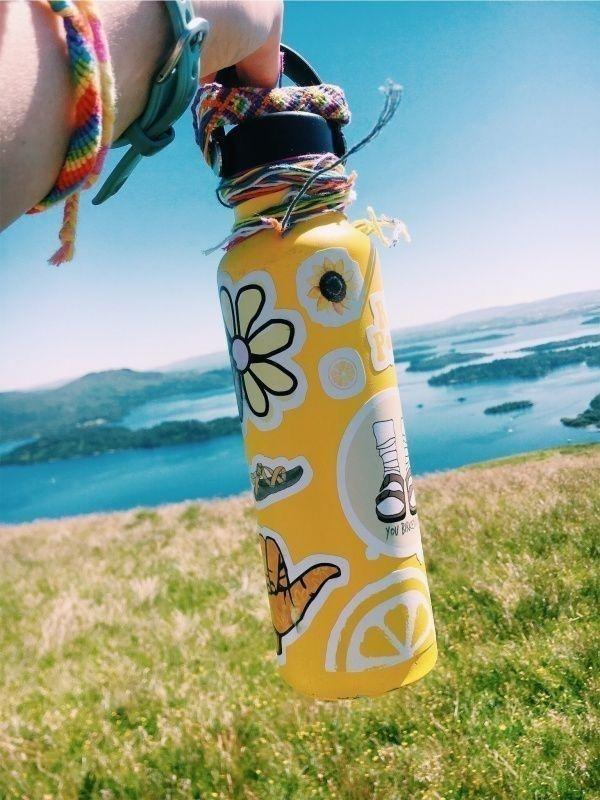gym bottle: (187, 42, 440, 703)
